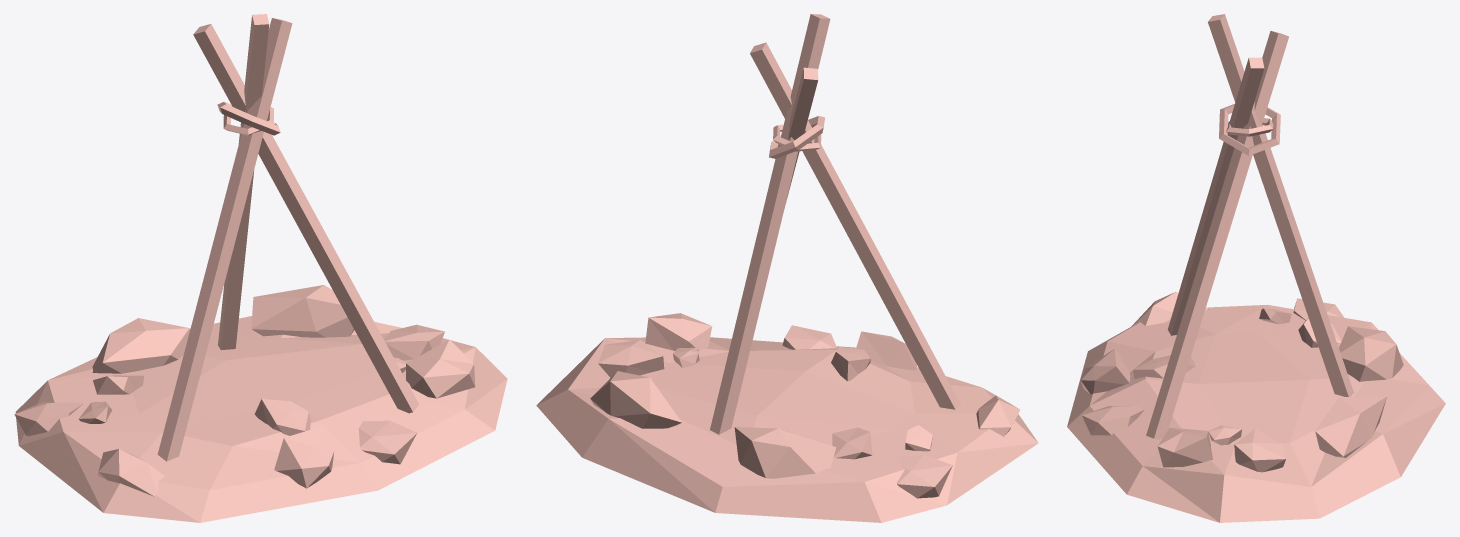
The model's file is Mega_Asset_s_Pack_Plane_010.FBX.
3 views of the same model, side by side, from view 1: azimuth 30°, elevation 25°; view 2: azimuth 150°, elevation 25°; view 3: azimuth 270°, elevation 25° (orthographic). The views are drawn at different scales.
Visible parts, largest first — view 1: Mega_Asset_s_Pack_Plane_010; view 2: Mega_Asset_s_Pack_Plane_010; view 3: Mega_Asset_s_Pack_Plane_010.
Part boxes in pixels (<box>): Mega_Asset_s_Pack_Plane_010: <box>14,14,507,522</box>; Mega_Asset_s_Pack_Plane_010: <box>536,14,1038,522</box>; Mega_Asset_s_Pack_Plane_010: <box>1067,14,1445,522</box>.
Size of what is drawn, in the model's own units: 323 by 258 by 300.
